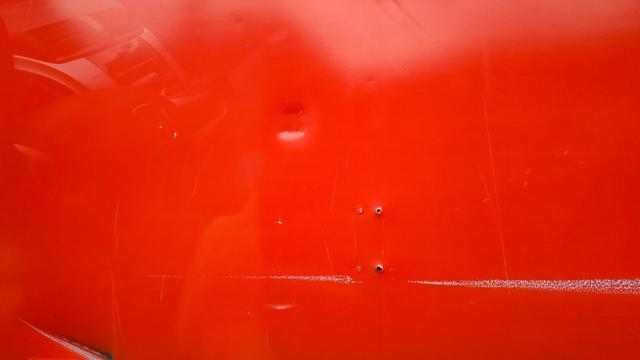Door: (14, 92, 640, 360)
